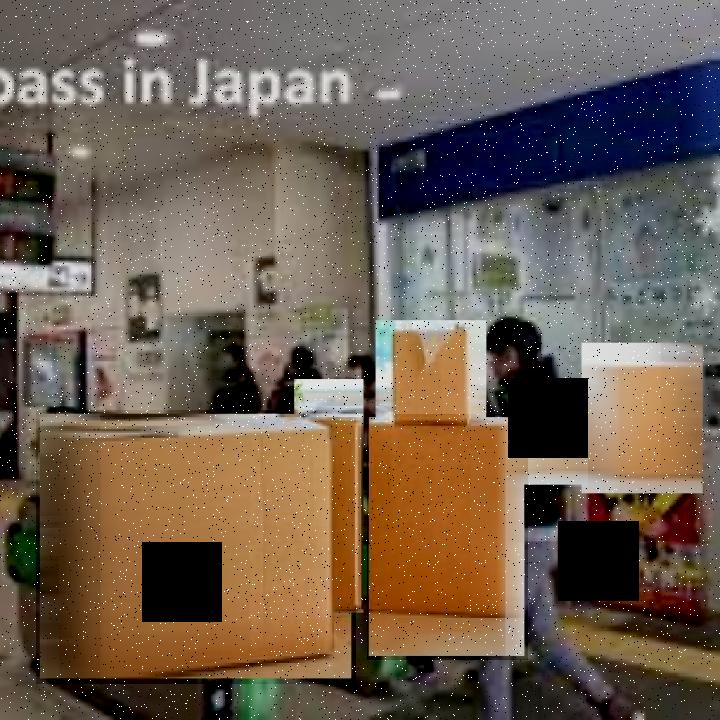box: (36, 410, 356, 684), (367, 415, 528, 660), (581, 342, 705, 496), (293, 375, 366, 618), (375, 318, 489, 448), (508, 380, 588, 487)
